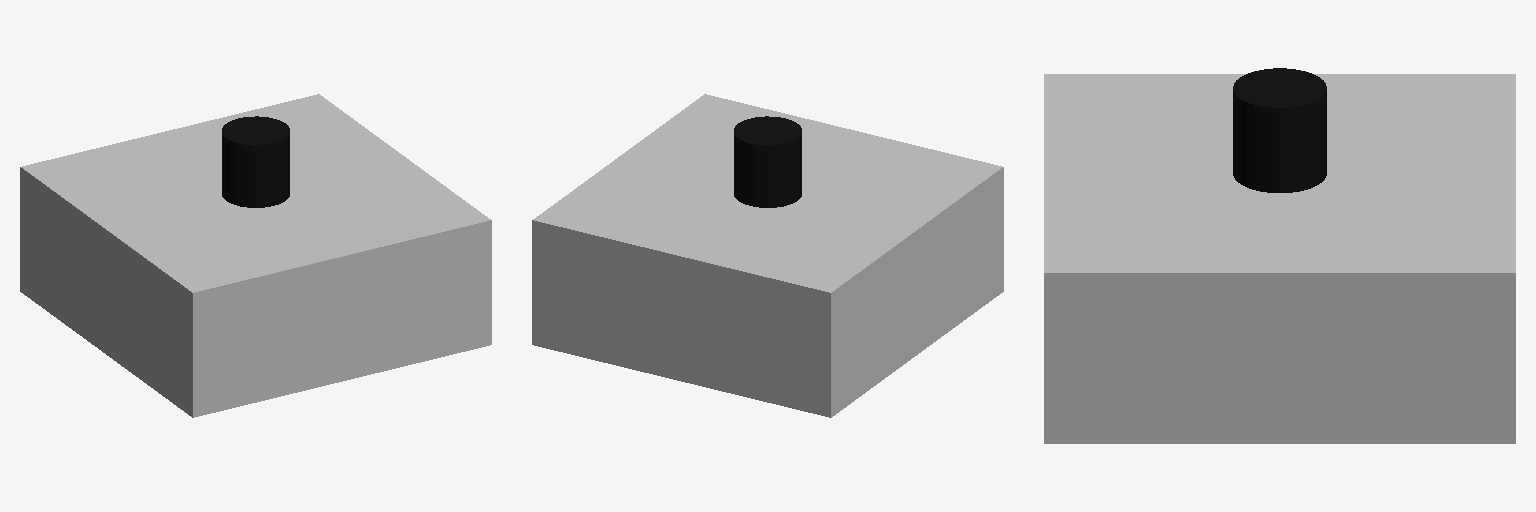
The robot description file, URDF, robot "velodyne_on_box":
<?xml version="1.0" ?>
<!-- =================================================================================== -->
<!-- |    This document was autogenerated by xacro from test.urdf.xacro                | -->
<!-- |    EDITING THIS FILE BY HAND IS NOT RECOMMENDED                                 | -->
<!-- =================================================================================== -->
<robot name="velodyne_on_box">
  <!-- Box Link -->
  <link name="box_link">
    <visual>
      <geometry>
        <box size="0.5 0.5 0.2"/>
      </geometry>
      <material>
        <color rgba="0.8 0.8 0.8 1.0"/>
      </material>
    </visual>
    <collision>
      <geometry>
        <box size="0.5 0.5 0.2"/>
      </geometry>
    </collision>
    <inertial>
      <mass value="1.0"/>
      <inertia ixx="0.01" ixy="0.0" ixz="0.0" iyy="0.01" iyz="0.0" izz="0.01"/>
    </inertial>
  </link>
  <!-- Laser Link -->
  <link name="laser_link">
    <visual>
      <geometry>
        <cylinder length="0.1" radius="0.05"/>
      </geometry>
      <material>
        <color rgba="0.1 0.1 0.1 1.0"/>
      </material>
    </visual>
    <collision>
      <geometry>
        <cylinder length="0.1" radius="0.05"/>
      </geometry>
    </collision>
    <inertial>
      <mass value="0.5"/>
      <inertia ixx="0.002" ixy="0.0" ixz="0.0" iyy="0.002" iyz="0.0" izz="0.002"/>
    </inertial>
  </link>
  <!-- Joint between Box and Laser -->
  <joint name="box_to_laser" type="fixed">
    <parent link="box_link"/>
    <child link="laser_link"/>
    <origin rpy="0 0 0" xyz="0 0 0.15"/>
  </joint>
  <!-- Gazebo Plugin for Velodyne -->
  <gazebo reference="laser_link">
    <sensor name="velodyne-VLP16" type="gpu_ray">
      <pose>0 0 0.1 0 0 0</pose>
      <visualize>true</visualize>
      <update_rate>10</update_rate>
      <ray>
        <scan>
          <horizontal>
            <samples>440</samples>
            <resolution>1</resolution>
            <min_angle>-3.14159265</min_angle>
            <max_angle>3.14159265</max_angle>
          </horizontal>
          <vertical>
            <samples>16</samples>
            <resolution>1</resolution>
            <min_angle>-0.261799388</min_angle>
            <max_angle>0.261799388</max_angle>
          </vertical>
        </scan>
        <range>
          <min>0.3</min>
          <max>131</max>
          <resolution>0.001</resolution>
        </range>
        <noise>
          <type>gaussian</type>
          <mean>0.0</mean>
          <stddev>0.0</stddev>
        </noise>
      </ray>
      <plugin filename="libgazebo_ros_velodyne_laser.so" name="gazebo_ros_laser_controller">
        <ros>
          <remapping>~/out:=/velodyne_points</remapping>
        </ros>
        <frame_name>laser_link</frame_name>
        <organize_cloud>false</organize_cloud>
        <min_range>0.9</min_range>
        <max_range>130.0</max_range>
        <gaussian_noise>0.008</gaussian_noise>
        <output_type>sensor_msgs/msg/PointCloud2</output_type>
      </plugin>
    </sensor>
  </gazebo>
</robot>

--- Facts derived from the render (not from the file) ---
3 views of the same robot in one strip: view 1: azimuth 30°, elevation 25°; view 2: azimuth 150°, elevation 25°; view 3: azimuth 270°, elevation 25° (orthographic).
Robot: velodyne_on_box — 2 links, 1 joints (1 fixed); root link box_link; default pose: every joint at zero.
Links seen in each view (by area): view 1: box_link, laser_link; view 2: box_link, laser_link; view 3: box_link, laser_link.
Link boxes in pixels (x1,y1,x2,y2): box_link: [20, 94, 491, 417]; laser_link: [222, 116, 289, 207]; box_link: [532, 94, 1003, 417]; laser_link: [734, 116, 801, 207]; box_link: [1044, 74, 1515, 443]; laser_link: [1233, 68, 1326, 192].
Size in the robot's own frame: 0.5 by 0.5 by 0.3 metres.
Geometry: primitives only (box / cylinder / sphere), no mesh files.